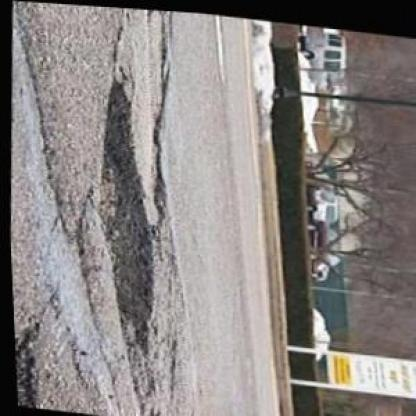pothole: (84, 76, 161, 341)
